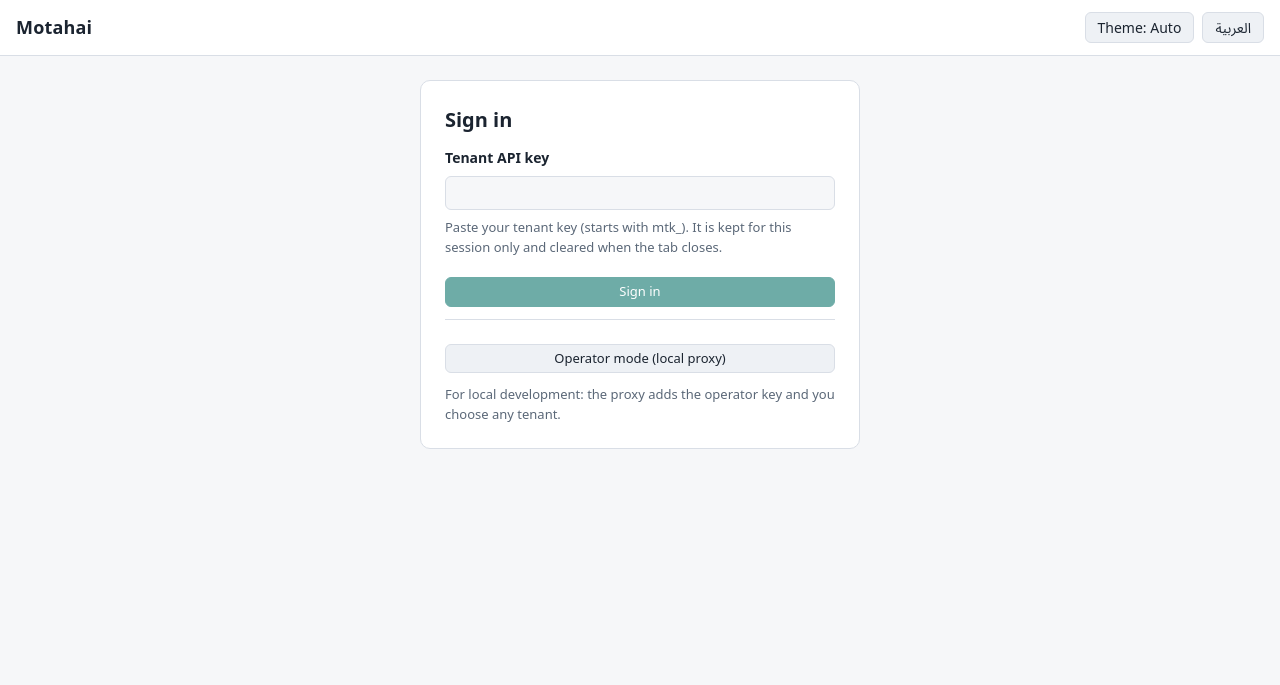
Scenario: sign-in › operator mode sends no Authorization header and keeps the tenant filter
Click the button "Operator mode (local proxy)".
click(640, 358)  # box top-left (445, 344), bottom-right (835, 373)
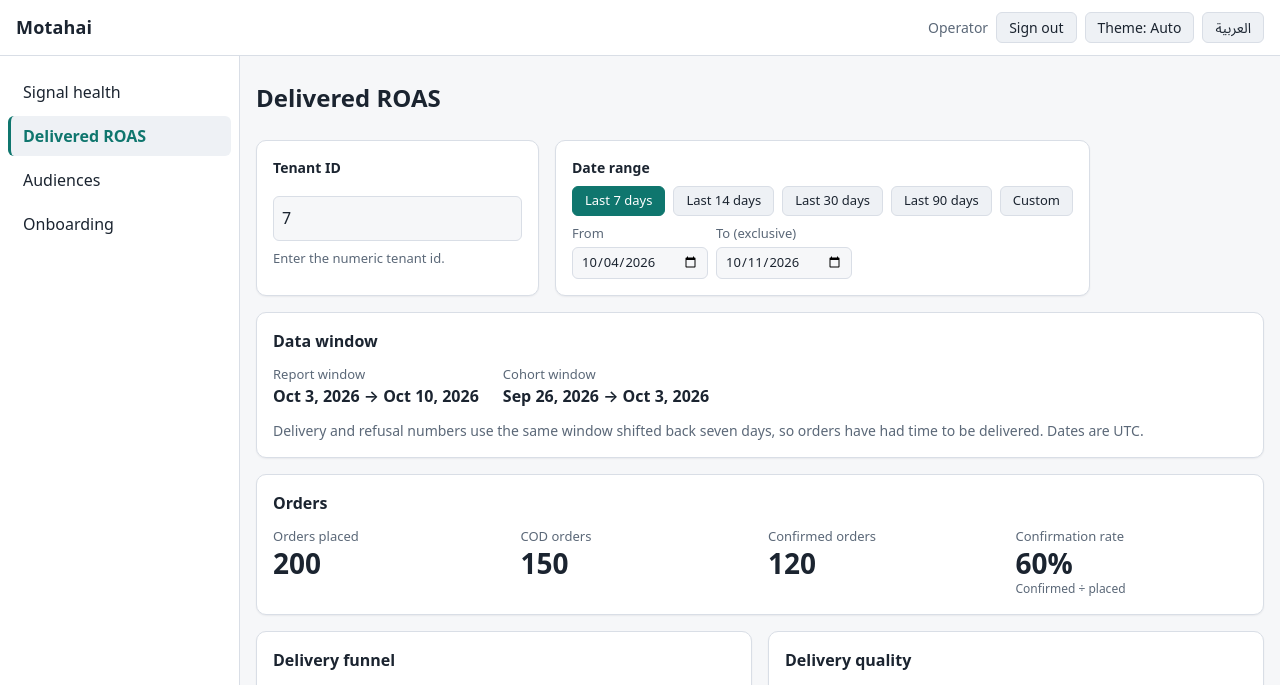
Expected: the text "Operator" is shown, top-left (928, 17), bottom-right (988, 38)
Now the text "Orders placed" is shown, box top-left (273, 527), bottom-right (359, 545)
Now the field labelled "Tenant ID" is shown, box top-left (273, 196), bottom-right (522, 241)
